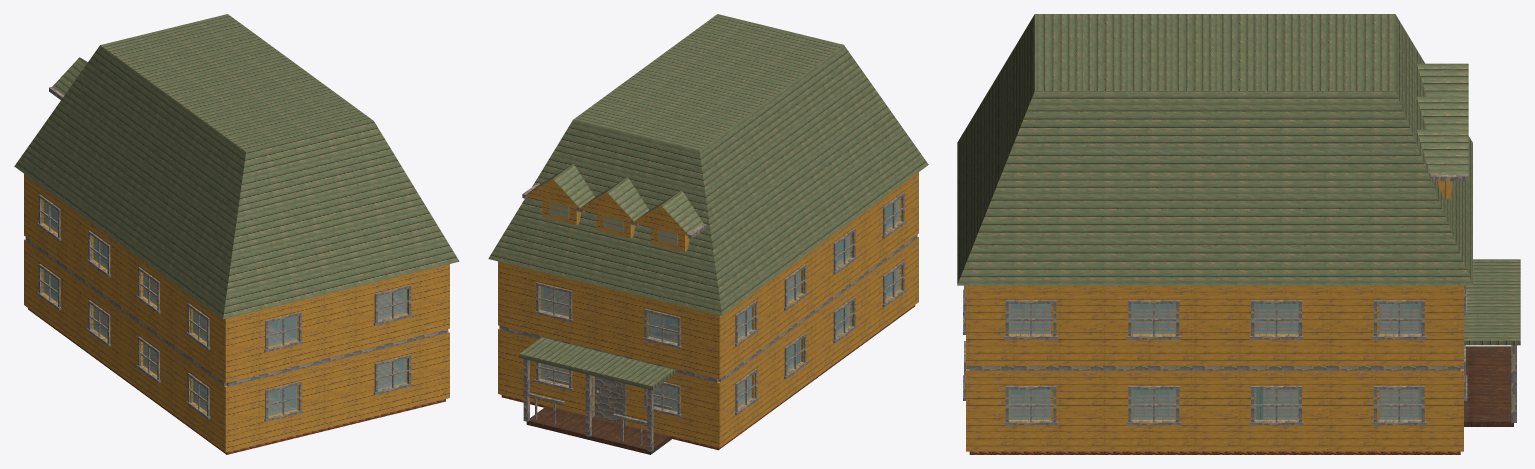
Rendered from fennel-mansard.gltf.
3 views of the same model, side by side, from view 1: azimuth 30°, elevation 25°; view 2: azimuth 150°, elevation 25°; view 3: azimuth 270°, elevation 25° (orthographic). The views are drawn at different scales.
Parts seen in each view (by area): view 1: roof-L1-slate, exterior-L0-brick, exterior-L1-brick, trim-L0-dark-wood, trim-L1-dark-wood, glazing-L1-glass, glazing-L0-glass, exterior-L0-dark-wood, floor-L0-floor, floor-L1-floor; view 2: roof-L1-slate, exterior-L1-brick, exterior-L0-brick, porch-L0-slate, trim-L1-dark-wood, roof-L1-brick, trim-L0-dark-wood, porch-L0-stone, glazing-L1-glass, glazing-L0-glass, porch-L0-dark-wood, exterior-L0-dark-wood (+5 smaller); view 3: roof-L1-slate, exterior-L0-brick, exterior-L1-brick, glazing-L0-glass, floor-L0-floor, glazing-L1-glass, porch-L0-slate, trim-L0-dark-wood, trim-L1-dark-wood, porch-L0-stone, floor-L1-floor, exterior-L0-dark-wood.
Part boxes in pixels (x1=…): roof-L1-slate: x1=14, y1=14, x2=459, y2=319; exterior-L0-brick: x1=24, y1=239, x2=449, y2=452; exterior-L1-brick: x1=24, y1=174, x2=449, y2=382; trim-L0-dark-wood: x1=37, y1=264, x2=412, y2=421; trim-L1-dark-wood: x1=37, y1=194, x2=412, y2=352; glazing-L1-glass: x1=43, y1=201, x2=406, y2=346; glazing-L0-glass: x1=43, y1=270, x2=406, y2=416; exterior-L0-dark-wood: x1=25, y1=237, x2=448, y2=386; floor-L0-floor: x1=28, y1=308, x2=445, y2=454; floor-L1-floor: x1=150, y1=279, x2=402, y2=343; roof-L1-slate: x1=488, y1=14, x2=928, y2=315; exterior-L1-brick: x1=498, y1=172, x2=918, y2=379; exterior-L0-brick: x1=498, y1=237, x2=918, y2=447; porch-L0-slate: x1=519, y1=337, x2=675, y2=390; trim-L1-dark-wood: x1=534, y1=192, x2=905, y2=348; roof-L1-brick: x1=525, y1=179, x2=689, y2=238; trim-L0-dark-wood: x1=534, y1=261, x2=905, y2=425; porch-L0-stone: x1=526, y1=406, x2=671, y2=454; glazing-L1-glass: x1=540, y1=199, x2=899, y2=343; glazing-L0-glass: x1=540, y1=268, x2=899, y2=412; porch-L0-dark-wood: x1=523, y1=359, x2=672, y2=451; exterior-L0-dark-wood: x1=499, y1=234, x2=917, y2=382; roof-L1-slate: x1=957, y1=14, x2=1472, y2=285; exterior-L0-brick: x1=966, y1=369, x2=1463, y2=451; exterior-L1-brick: x1=966, y1=285, x2=1463, y2=365; glazing-L0-glass: x1=1008, y1=389, x2=1421, y2=419; floor-L0-floor: x1=969, y1=390, x2=1460, y2=454; glazing-L1-glass: x1=1008, y1=304, x2=1421, y2=334; porch-L0-slate: x1=1464, y1=259, x2=1520, y2=345; trim-L0-dark-wood: x1=963, y1=315, x2=1467, y2=425; trim-L1-dark-wood: x1=963, y1=285, x2=1467, y2=339; porch-L0-stone: x1=1464, y1=346, x2=1513, y2=426; floor-L1-floor: x1=1012, y1=309, x2=1417, y2=330; exterior-L0-dark-wood: x1=966, y1=366, x2=1463, y2=370.
Bounding box in the file's own units: 7.56 × 8.33 × 12.63.
Materials: 10 (9 with a texture image).
